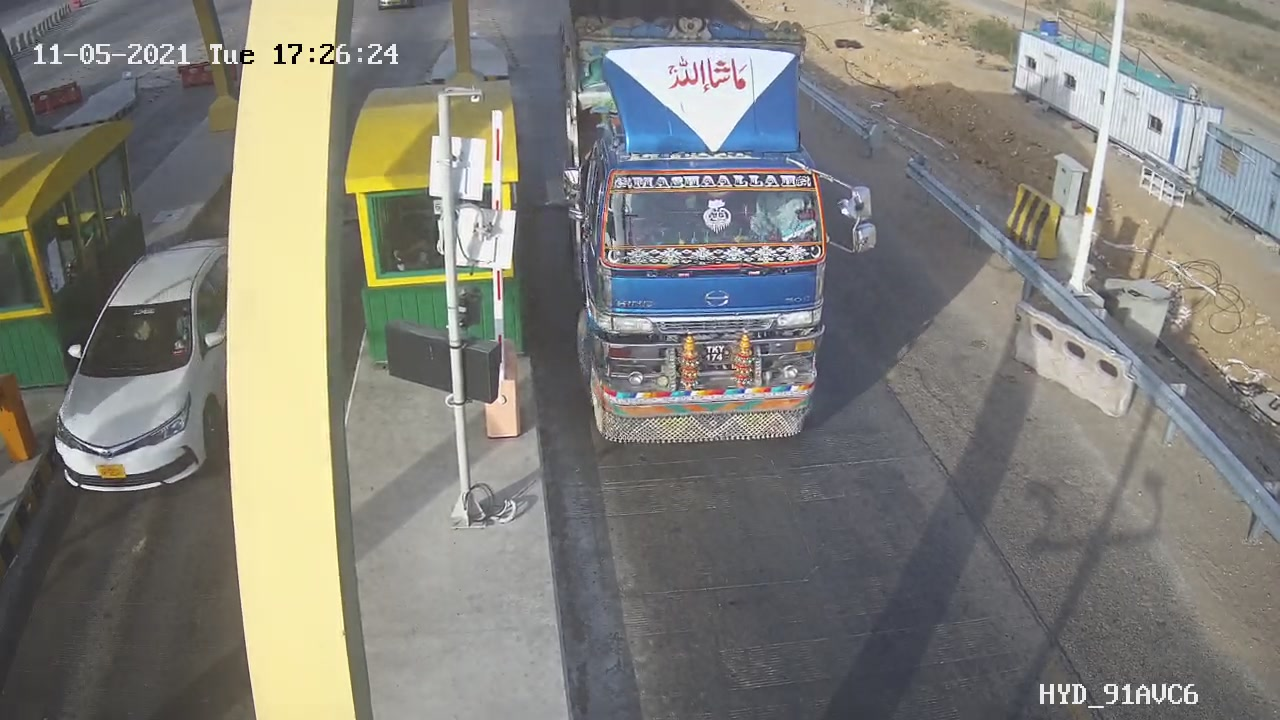F6: (533, 1, 901, 462)
